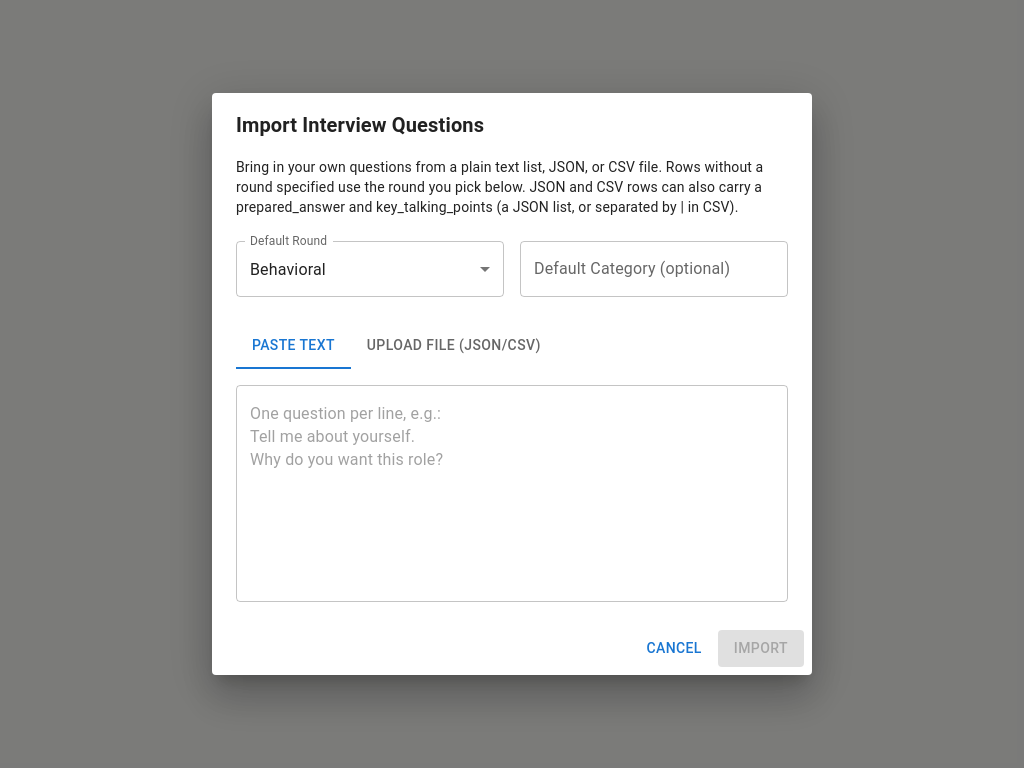
it: InterviewQuestionImportModal › shows skipped rows and error details, not hidden
Type "Something" into the text box with placeholder "One question per line" at (512, 494), box [250,402,774,586]
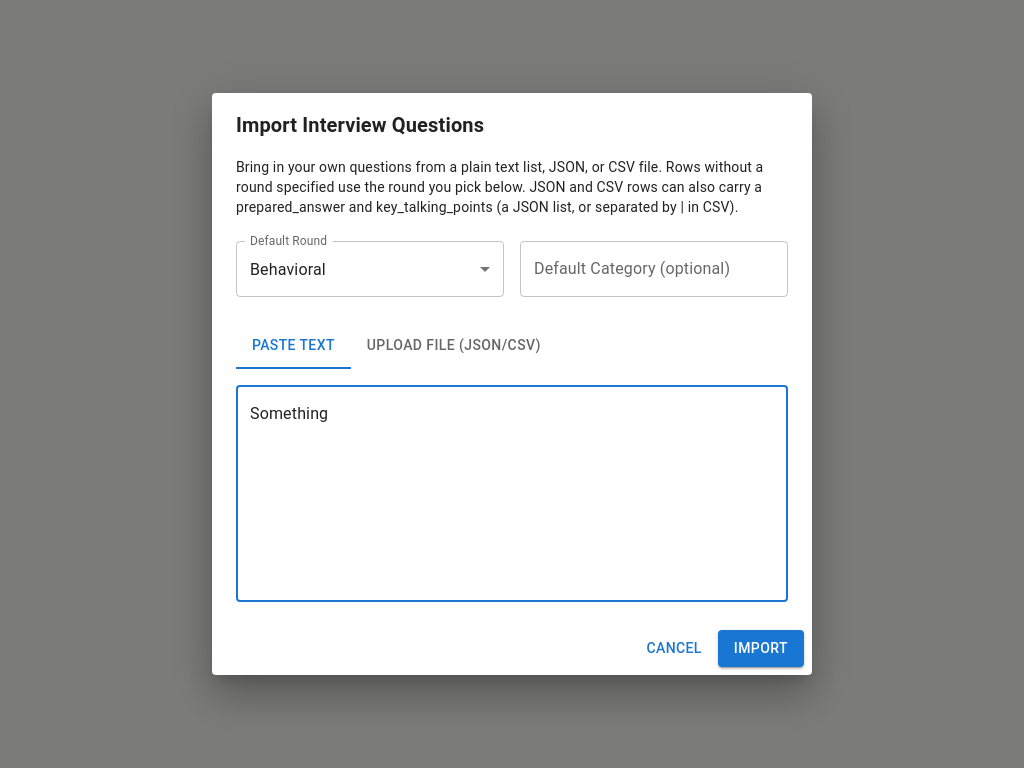
Click the button "Import" at (761, 649), box [718,630,804,667]
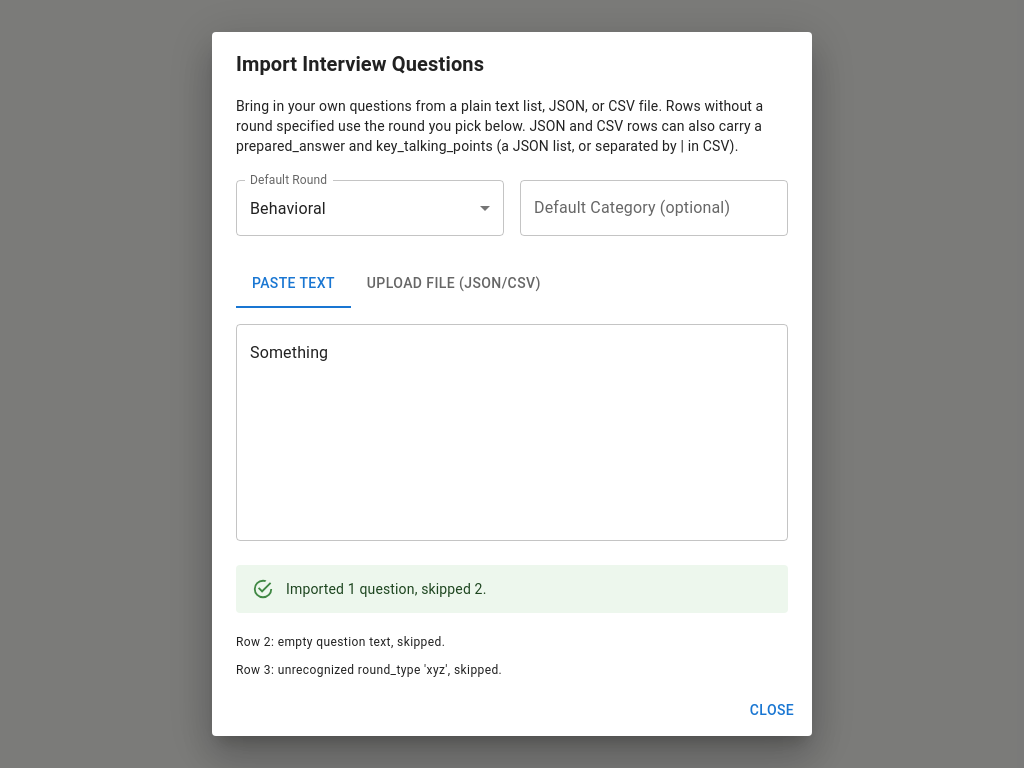
Expected: the text "Imported 1 question, skipped 2." is shown, [286,581,486,597]
Expected: the text "Row 2: empty question text, skipped." is shown, [236,635,445,649]
Expected: the text "Row 3: unrecognized round_type 'xyz', skipped." is shown, [236,663,502,677]
